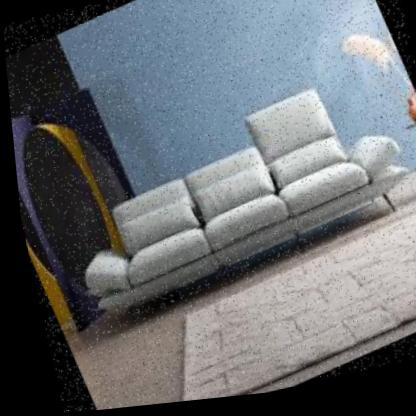Sofa: (20, 58, 416, 363)
